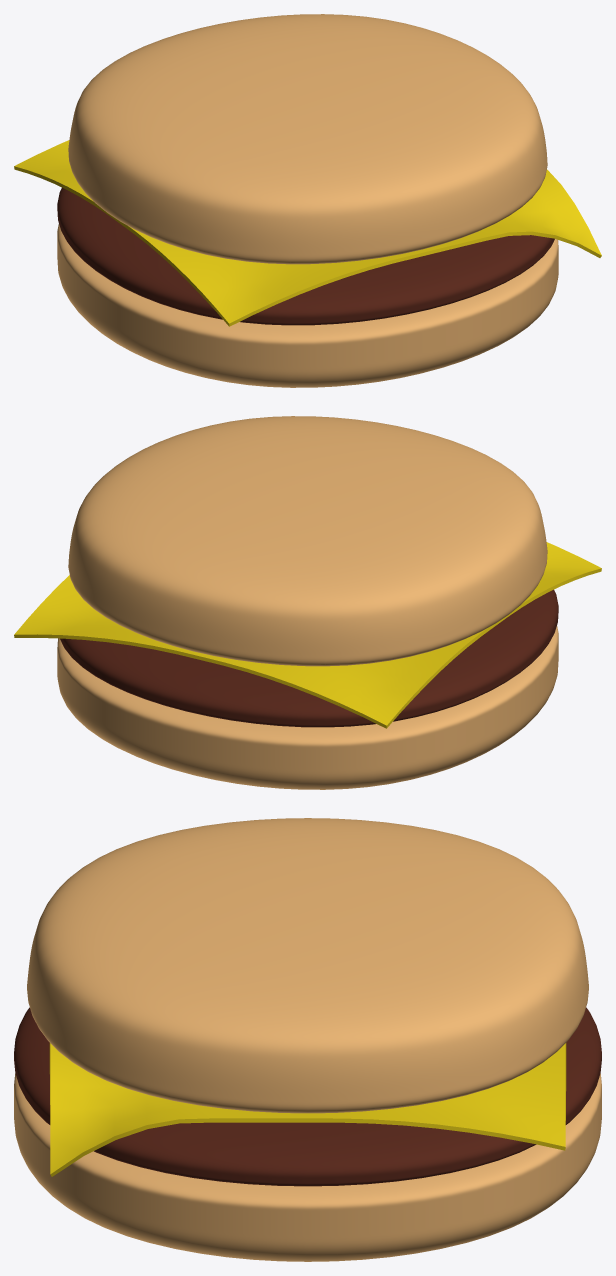
The model's file is hamburger.glb.
3 views of the same model, one above another, from view 1: azimuth 30°, elevation 25°; view 2: azimuth 150°, elevation 25°; view 3: azimuth 270°, elevation 25° (orthographic). The views are drawn at different scales.
Parts seen in each view (by area): view 1: Cube.002, Cube, Cube.001, Plane; view 2: Cube.002, Cube, Cube.001, Plane; view 3: Cube.002, Cube, Cube.001, Plane.
Part boxes in pixels (bbox=[...]): Cube.002: bbox=[68, 14, 547, 264]; Cube: bbox=[57, 224, 558, 387]; Cube.001: bbox=[57, 187, 554, 325]; Plane: bbox=[14, 140, 601, 326]; Cube.002: bbox=[68, 416, 547, 666]; Cube: bbox=[57, 626, 558, 789]; Cube.001: bbox=[60, 589, 558, 727]; Plane: bbox=[14, 542, 601, 728]; Cube.002: bbox=[27, 818, 588, 1113]; Cube: bbox=[14, 1073, 601, 1261]; Cube.001: bbox=[14, 1007, 601, 1186]; Plane: bbox=[49, 1043, 566, 1176].
Bounding box in the file's own units: 13.77 × 6.81 × 13.77.
